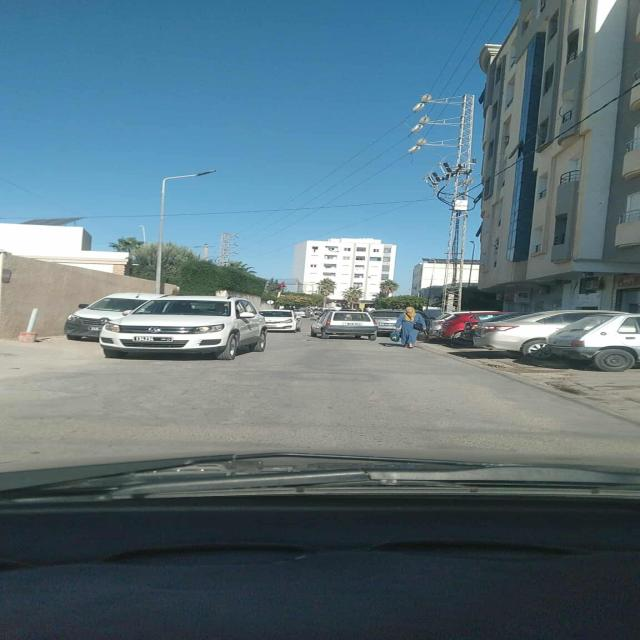licence plate: (134, 337, 172, 341)
